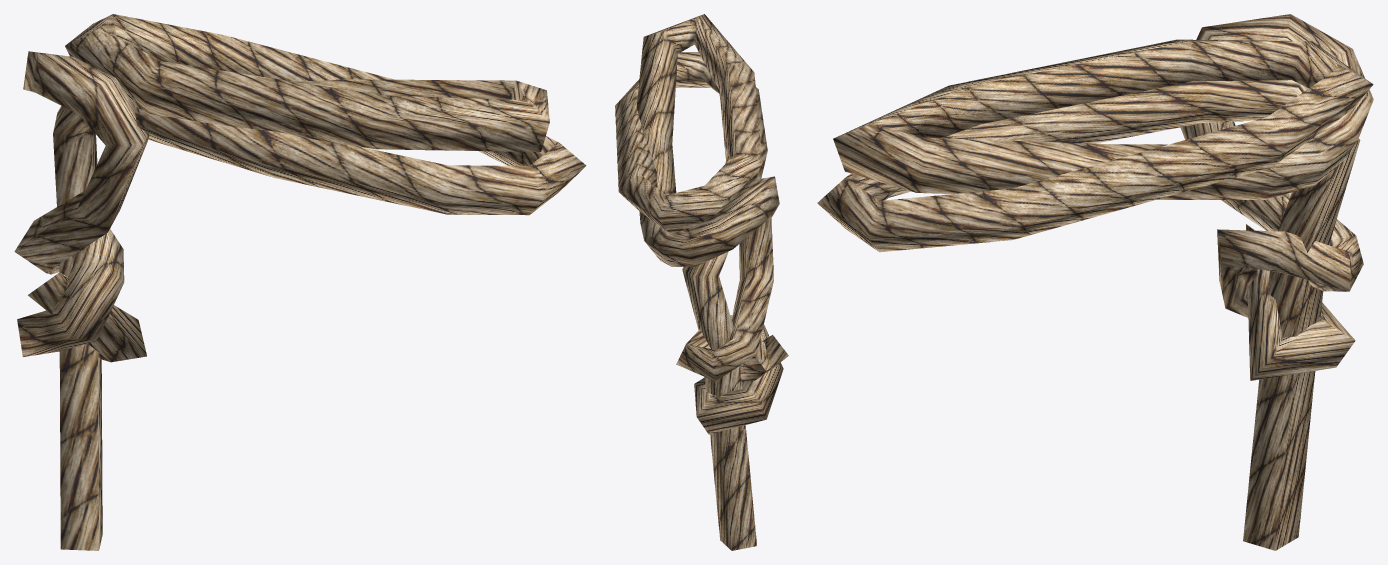
The model's file is Rope.fbx.
The picture shows the model from 3 angles, left to right: view 1: azimuth 30°, elevation 25°; view 2: azimuth 150°, elevation 25°; view 3: azimuth 270°, elevation 25°; orthographic projection. The views are drawn at different scales.
Visible parts, largest first — view 1: Rope; view 2: Rope; view 3: Rope.
Part boxes in pixels (x1=…): Rope: x1=14, y1=14, x2=586, y2=550; Rope: x1=615, y1=14, x2=788, y2=550; Rope: x1=817, y1=14, x2=1373, y2=550.
Size of the model in its own units: 7.25 by 9.7 by 9.02.
